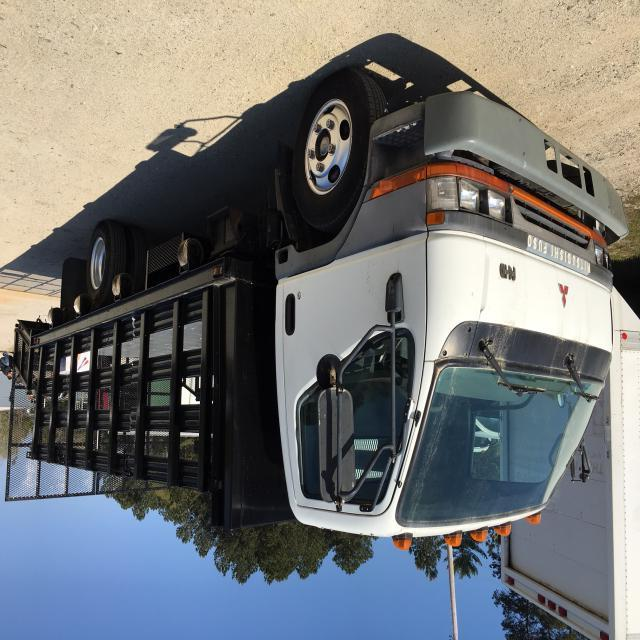truck: (5, 66, 628, 557)
